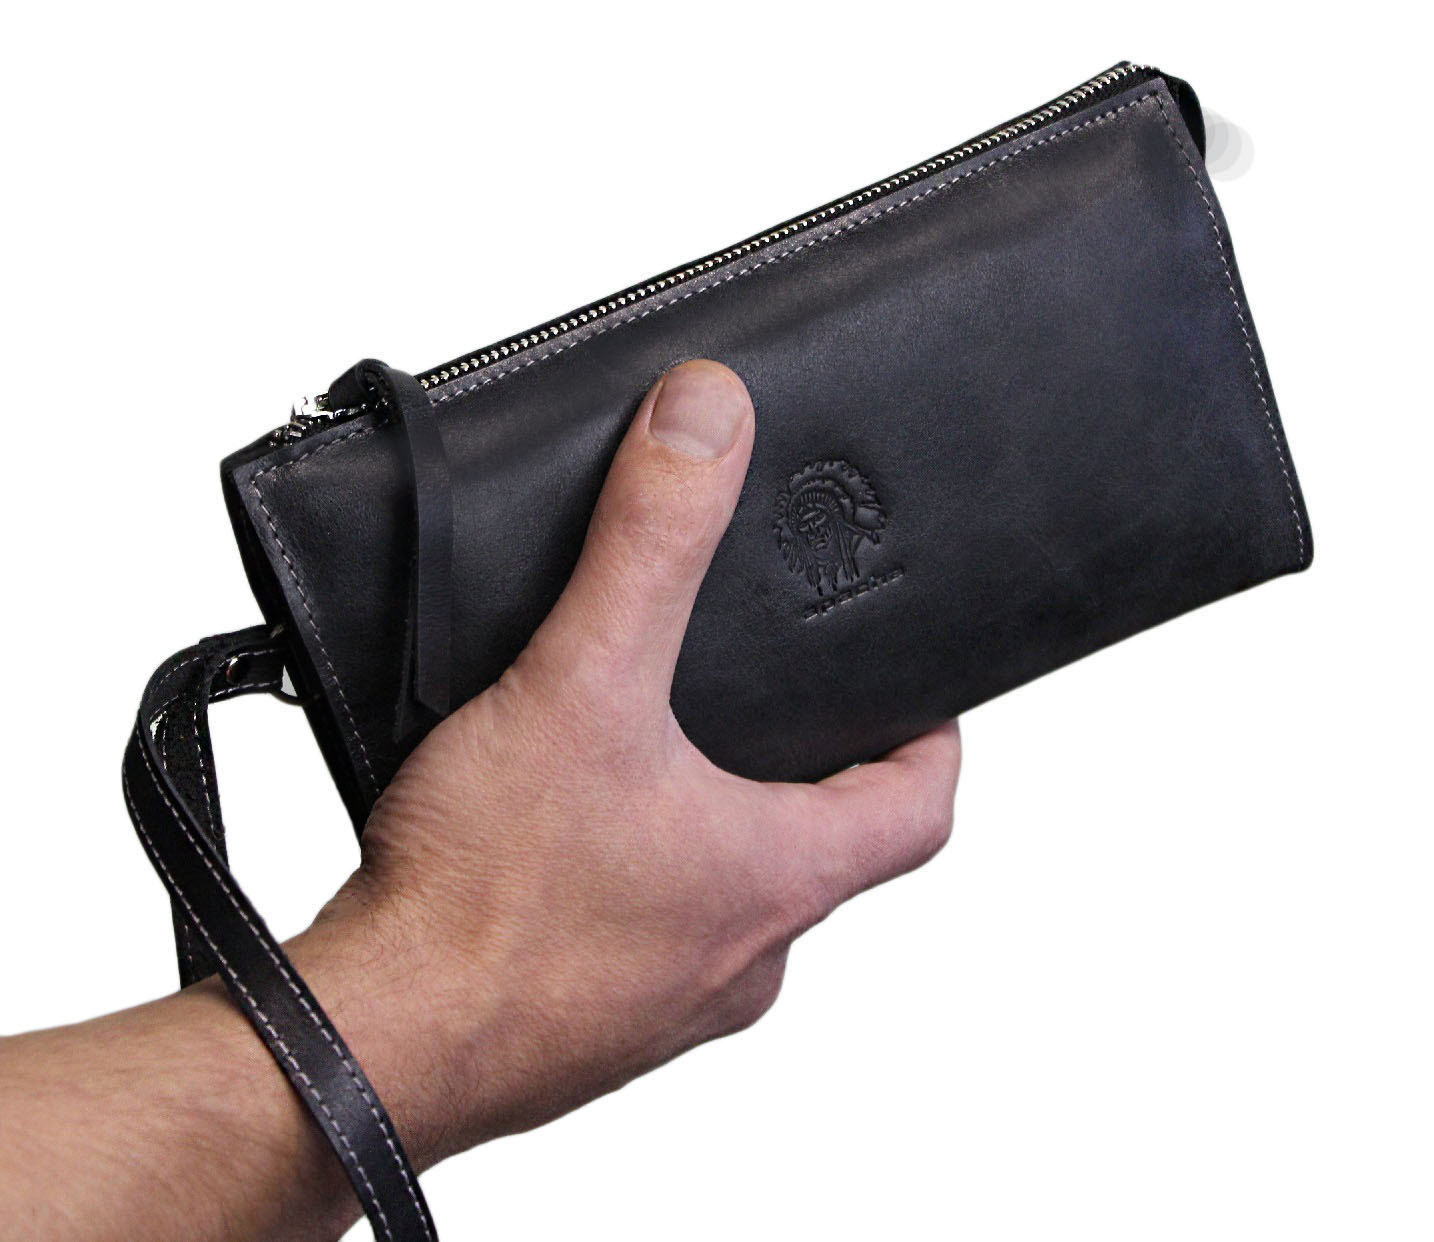monedero: (211, 52, 1322, 865)
